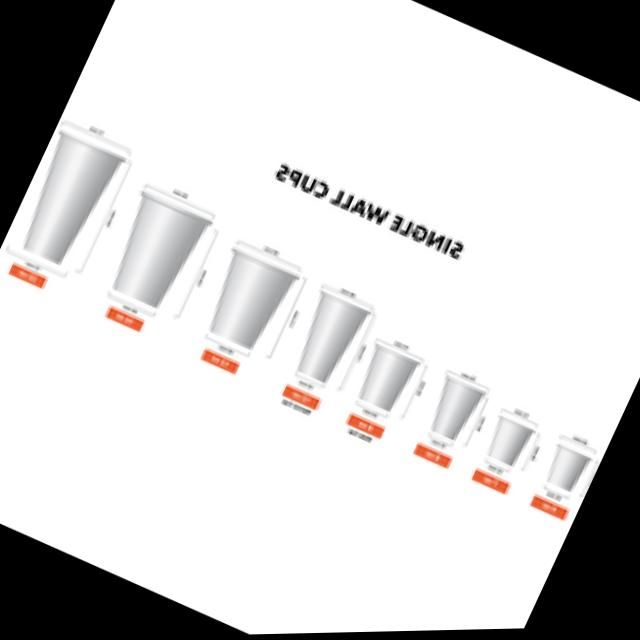paper_cups: (3, 115, 135, 280), (98, 182, 218, 325), (193, 238, 305, 366), (284, 286, 378, 398), (346, 341, 423, 427), (422, 374, 488, 451), (540, 443, 594, 503), (482, 417, 536, 476)
